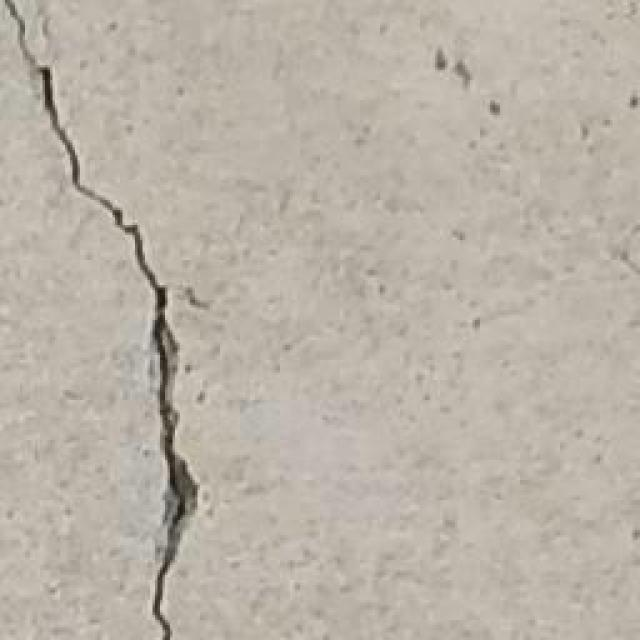concrete-crack: (2, 0, 200, 640)
